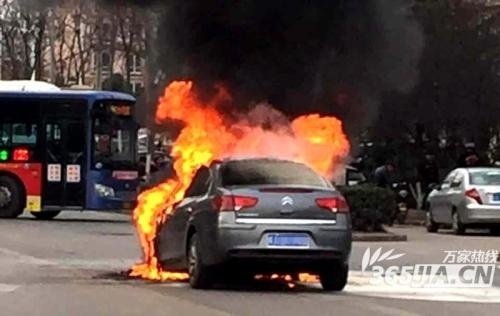fire: (127, 78, 354, 277), (256, 261, 324, 291)
